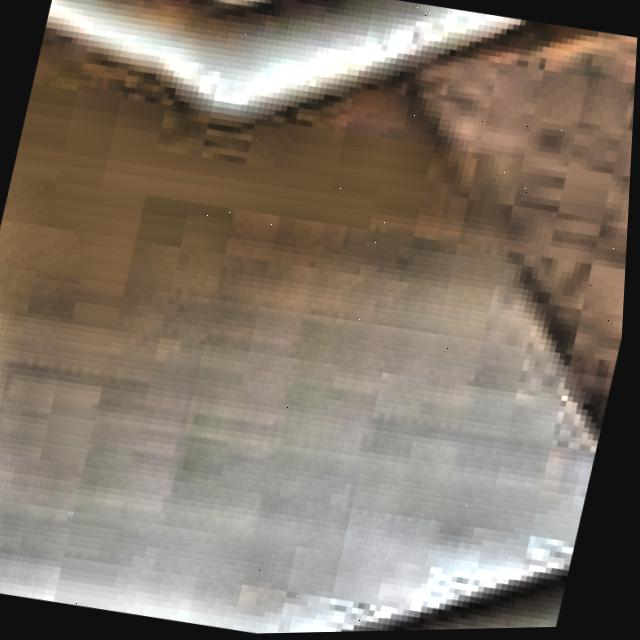paper: (0, 87, 600, 635)
